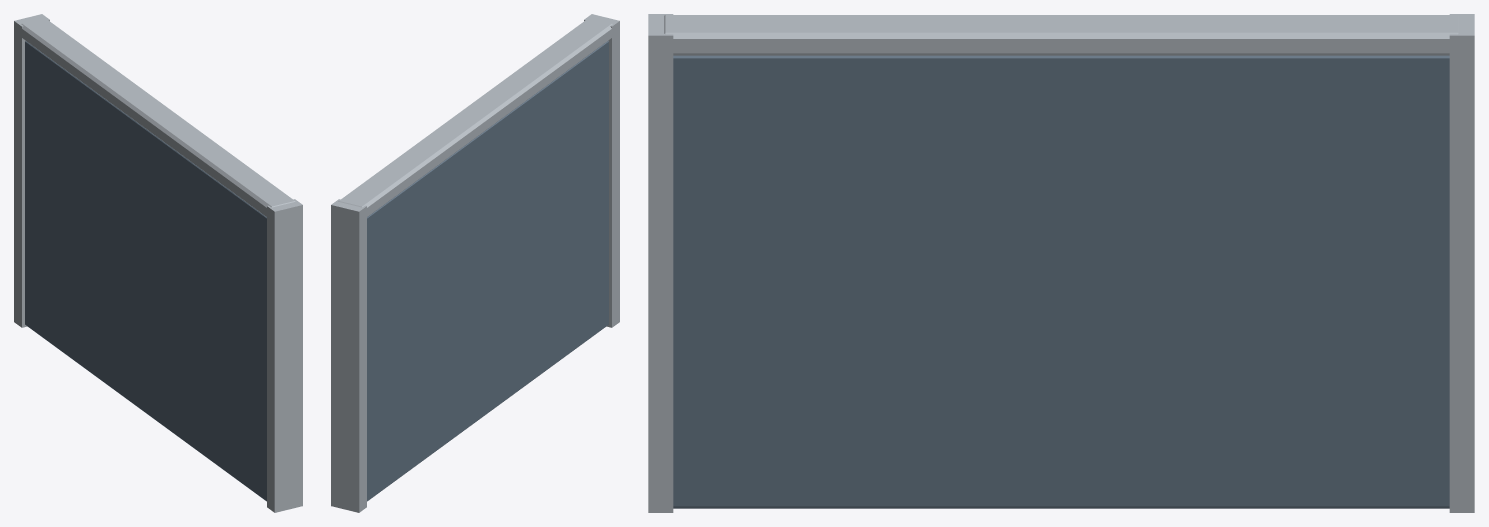
File: cubicle_divider_side.glb
3 views of the same model, side by side, from view 1: azimuth 30°, elevation 25°; view 2: azimuth 150°, elevation 25°; view 3: azimuth 270°, elevation 25° (orthographic). The views are drawn at different scales.
Parts seen in each view (by area): view 1: CubicleDividerSide; view 2: CubicleDividerSide; view 3: CubicleDividerSide.
Part boxes in pixels (x1=…): CubicleDividerSide: x1=14, y1=14, x2=302, y2=512; CubicleDividerSide: x1=331, y1=14, x2=619, y2=512; CubicleDividerSide: x1=648, y1=14, x2=1474, y2=512.
Bounding box in the file's own units: 0.045 × 0.461 × 0.722.
